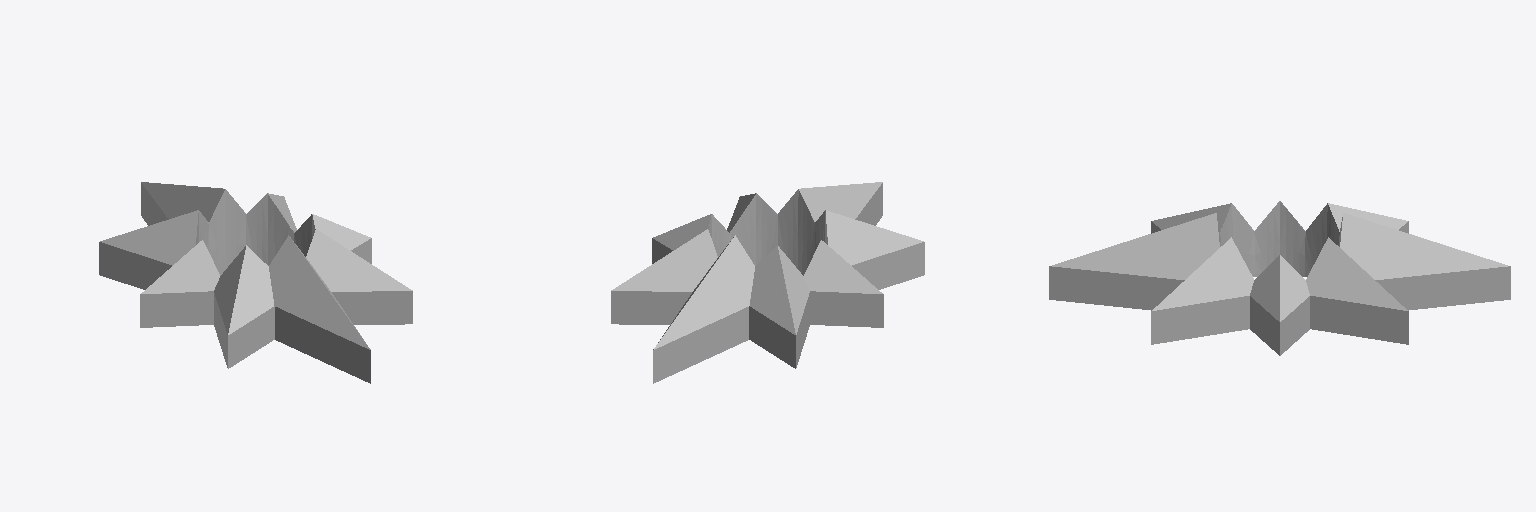
The model's file is Star.obj.
The picture shows the model from 3 angles: view 1: azimuth 30°, elevation 25°; view 2: azimuth 150°, elevation 25°; view 3: azimuth 270°, elevation 25°; orthographic projection.
Parts seen in each view (by area): view 1: 20309_Star_Of_Bethlehem_V1; view 2: 20309_Star_Of_Bethlehem_V1; view 3: 20309_Star_Of_Bethlehem_V1.
Boxes of the visible parts, box(x1,y1,x2,y2) form: 20309_Star_Of_Bethlehem_V1: box(99, 182, 412, 383); 20309_Star_Of_Bethlehem_V1: box(611, 182, 924, 383); 20309_Star_Of_Bethlehem_V1: box(1049, 201, 1510, 355).
Bounding box in the file's own units: 37.93 × 13.74 × 65.38.